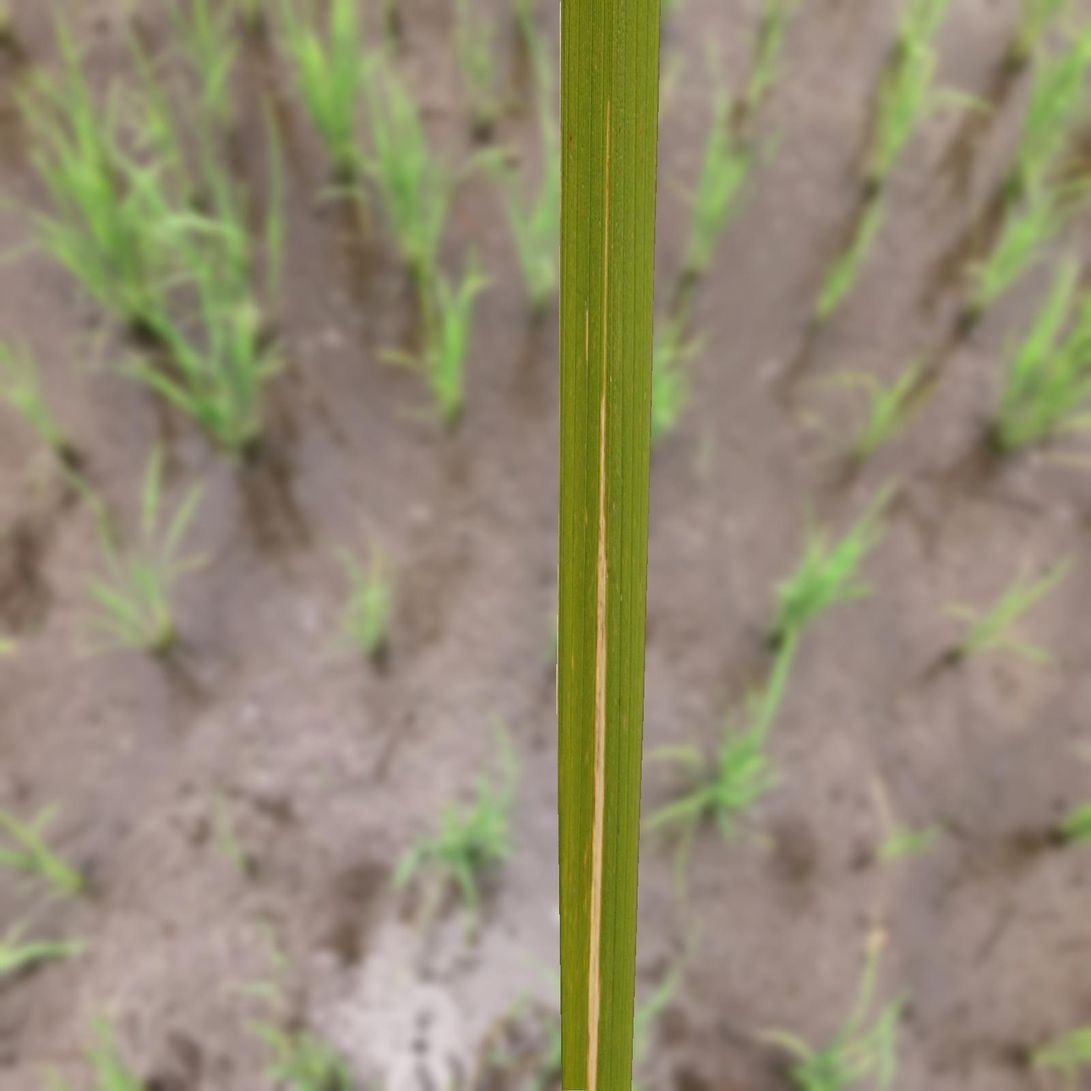BLB: (587, 101, 609, 1090)
LEAF: (557, 0, 660, 1090)
